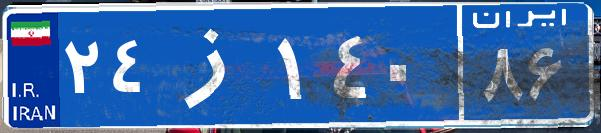0: (385, 28, 445, 110)
1: (273, 28, 330, 110)
2: (57, 26, 110, 107)
4: (330, 28, 385, 110), (110, 28, 158, 105)
6: (525, 38, 570, 115)
8: (475, 38, 525, 113)
ز: (158, 15, 273, 115)
